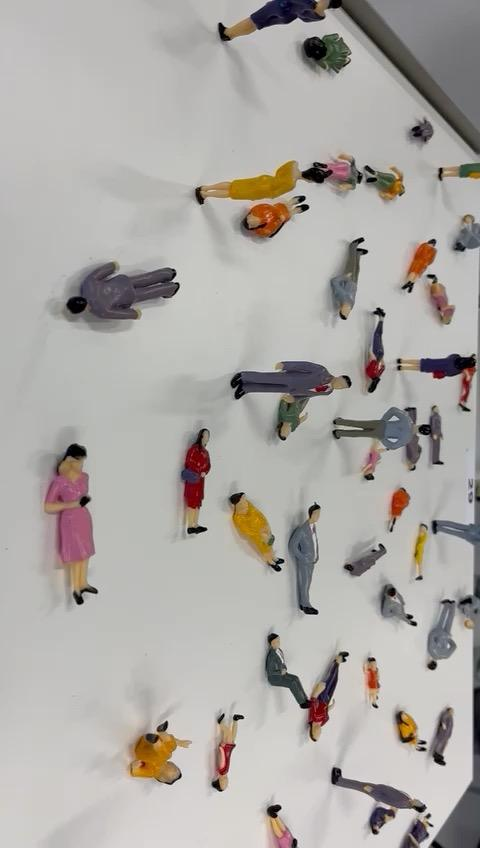human: (319, 400, 471, 478), (330, 751, 444, 848), (56, 255, 185, 340), (47, 446, 108, 605), (214, 351, 366, 409), (165, 158, 338, 195), (400, 336, 473, 419), (400, 229, 455, 337), (205, 707, 255, 817), (128, 707, 182, 802), (214, 0, 335, 41), (181, 422, 219, 552), (258, 610, 304, 717), (288, 501, 327, 625), (220, 204, 336, 244), (413, 501, 480, 568), (227, 483, 279, 568), (341, 505, 392, 584), (332, 224, 371, 325), (429, 573, 463, 687), (358, 305, 395, 402), (347, 158, 424, 204), (435, 139, 480, 215), (422, 705, 471, 770), (321, 632, 352, 732), (378, 574, 420, 642), (365, 644, 396, 723), (271, 773, 303, 848), (372, 472, 416, 521)
